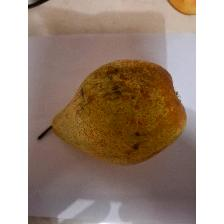Birne: (40, 52, 188, 166)
